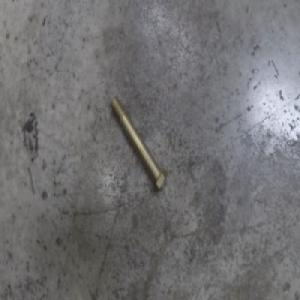Bolt: (109, 94, 168, 193)
